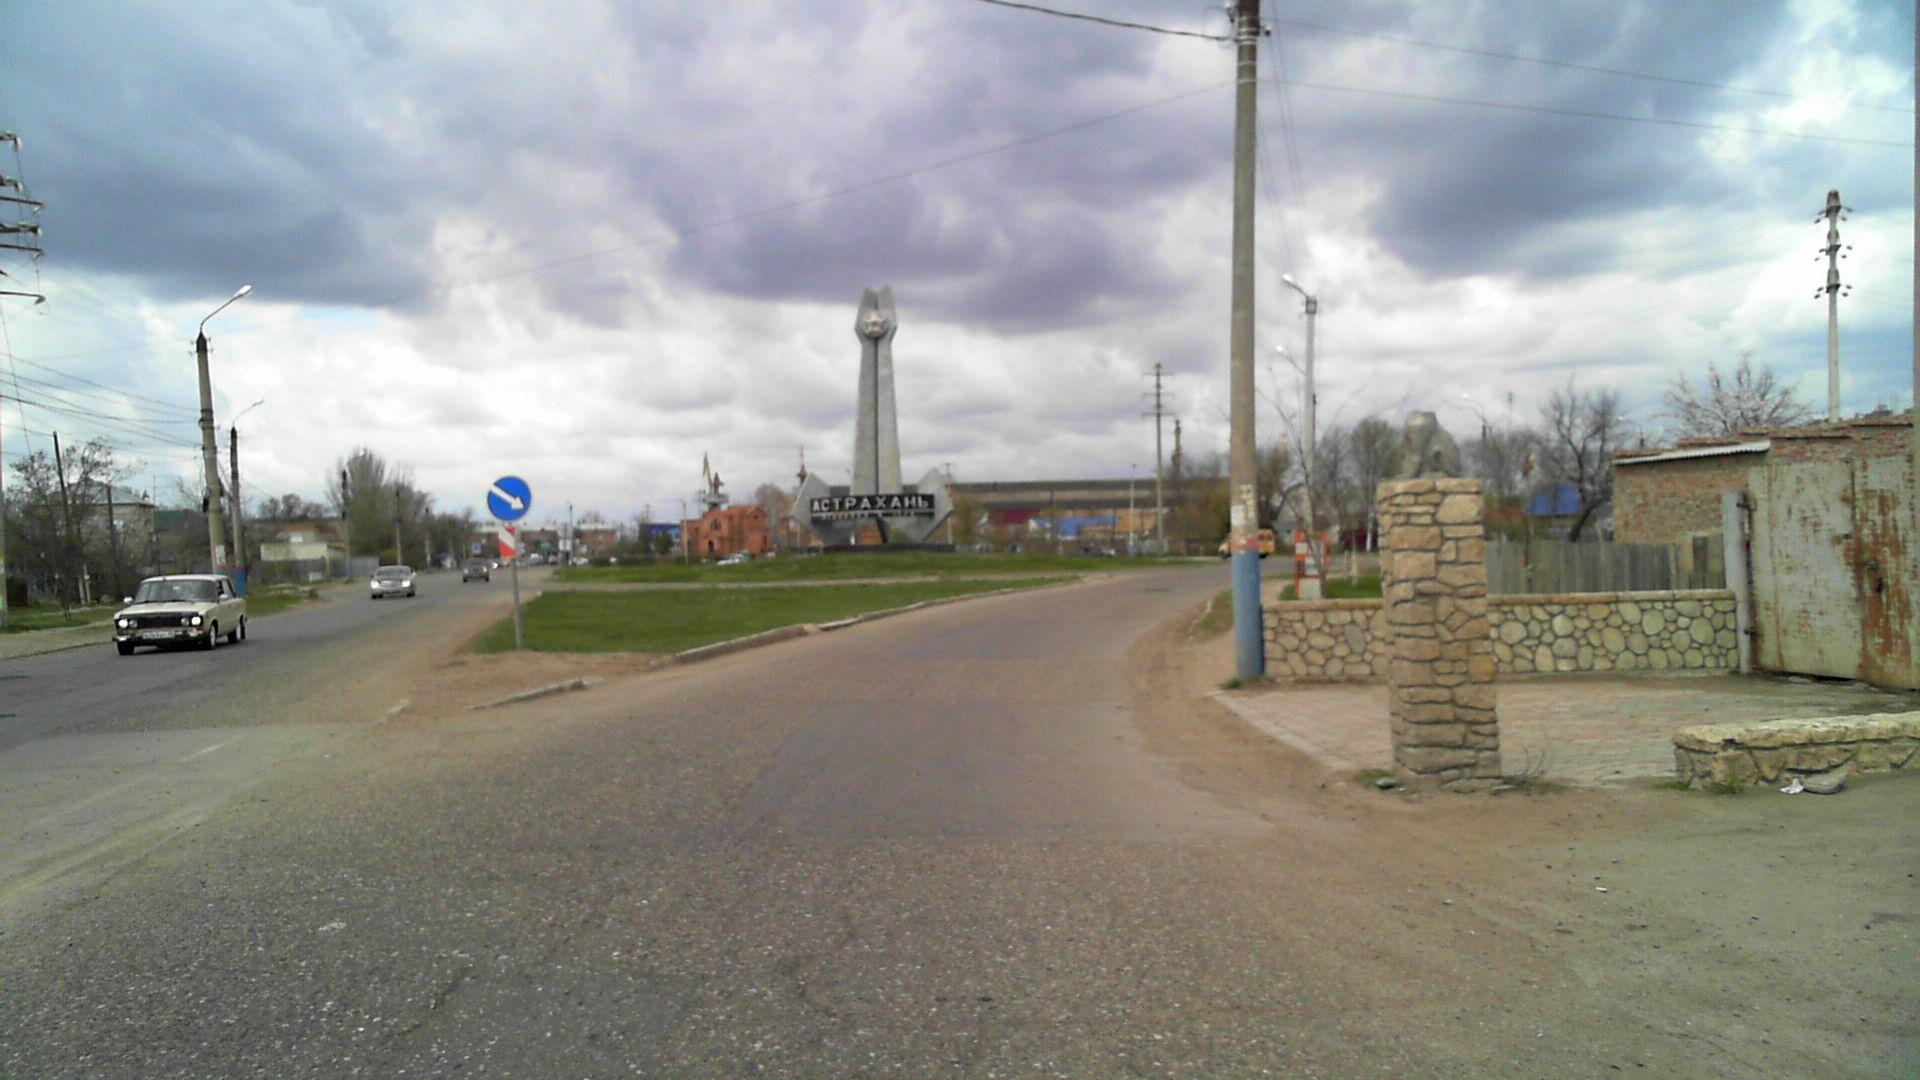4_2_1: (487, 472, 533, 524)
8_22_1: (500, 526, 516, 560)
